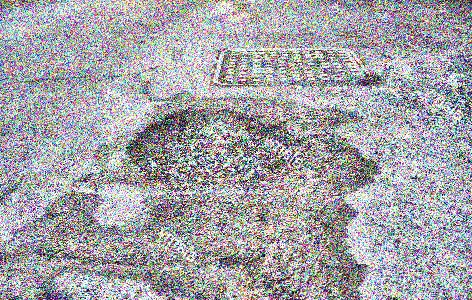pothole: (125, 106, 314, 188)
